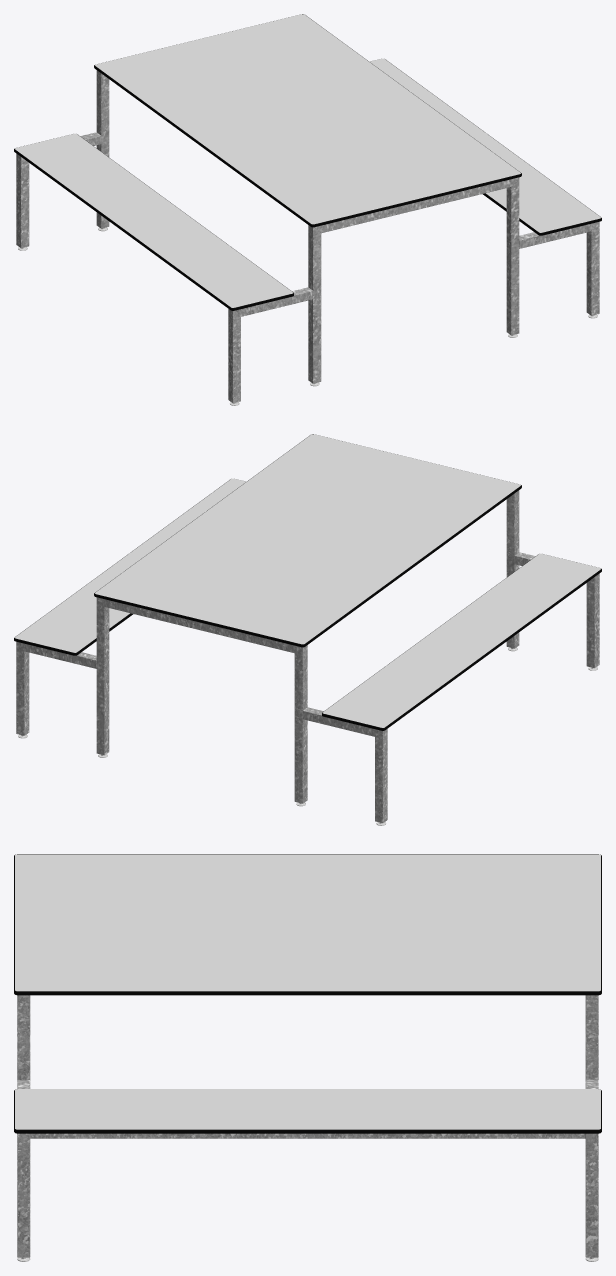
Rendered from sonneta-180.glb.
3 renders of one model, top to bottom at view 1: azimuth 30°, elevation 25°; view 2: azimuth 150°, elevation 25°; view 3: azimuth 270°, elevation 25°, orthographic. The views are drawn at different scales.
Parts seen in each view (by area): view 1: Tischplatte, Sitzplatte, Gestell, HPL Kante; view 2: Tischplatte, Sitzplatte, Gestell, HPL Kante; view 3: Tischplatte, Sitzplatte, Gestell, HPL Kante.
Part boxes in pixels (box(x1,y1,x2,y2)): Tischplatte: box(95, 14, 520, 224); Sitzplatte: box(15, 58, 601, 307); Gestell: box(16, 70, 599, 403); HPL Kante: box(14, 14, 601, 310); Tischplatte: box(95, 434, 520, 644); Sitzplatte: box(14, 478, 600, 727); Gestell: box(16, 490, 599, 823); HPL Kante: box(14, 434, 601, 730); Tischplatte: box(15, 854, 600, 991); Sitzplatte: box(15, 1089, 600, 1129); Gestell: box(17, 995, 598, 1257); HPL Kante: box(14, 854, 601, 1133).
Bounding box in the file's own units: 1.76 × 0.74 × 1.8.
Materials: 3 (1 with a texture image).
